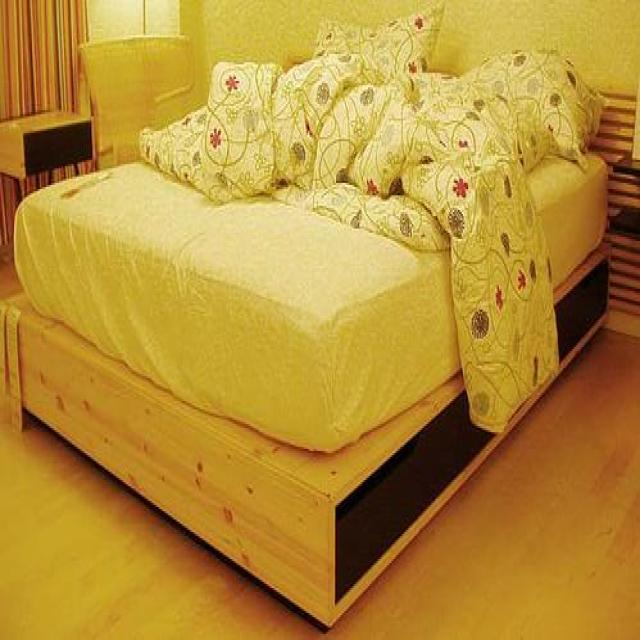bed: (2, 15, 612, 630)
